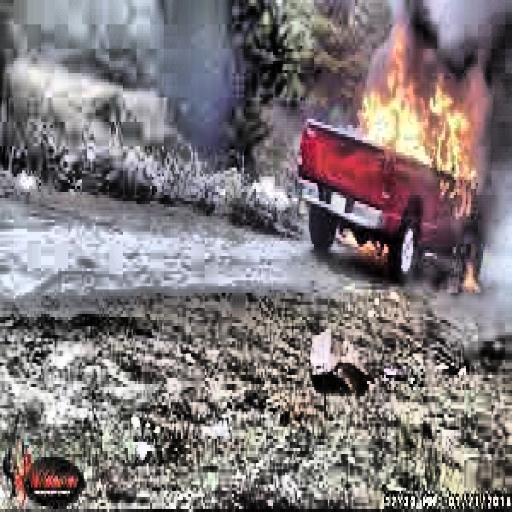fire: (350, 30, 486, 214)
